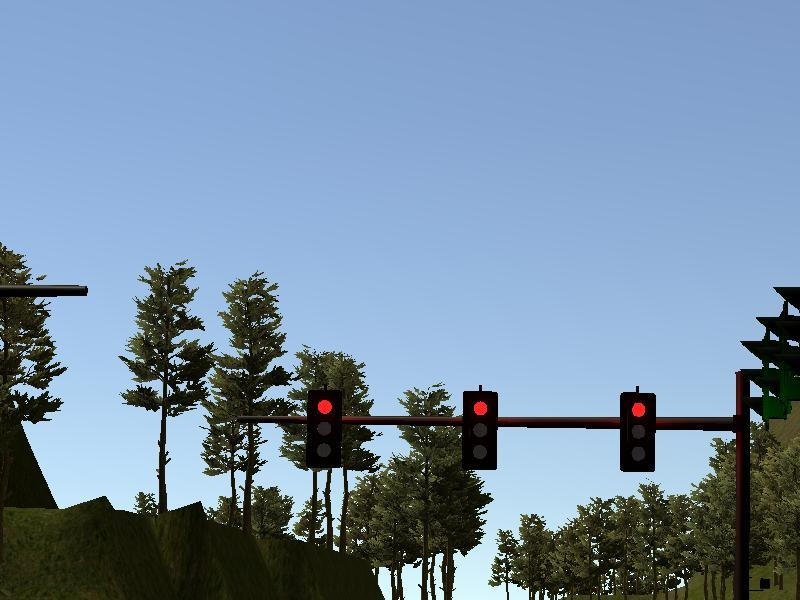Red: (619, 391, 658, 473), (306, 387, 343, 470), (461, 391, 498, 470)
